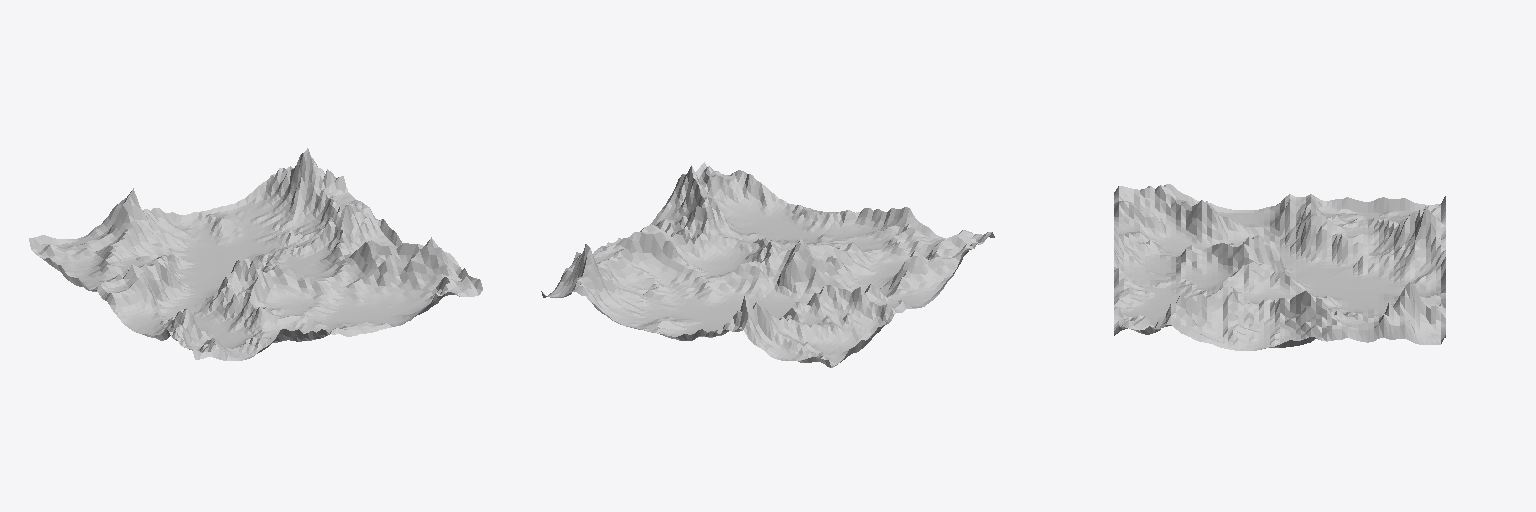
Rendered from hills.obj.
3 views of the same model, side by side, from view 1: azimuth 30°, elevation 25°; view 2: azimuth 150°, elevation 25°; view 3: azimuth 270°, elevation 25° (orthographic).
Visible parts, largest first — view 1: The_Hills; view 2: The_Hills; view 3: The_Hills.
Part boxes in pixels (x1,y1,x2,y2): The_Hills: (29, 148, 482, 360); The_Hills: (541, 162, 994, 367); The_Hills: (1114, 184, 1445, 350).
Bounding box in the file's own units: 2 × 0.4248 × 2.